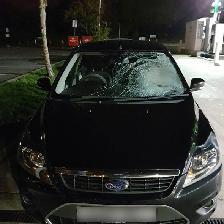glass_shatter: (82, 42, 190, 110)
